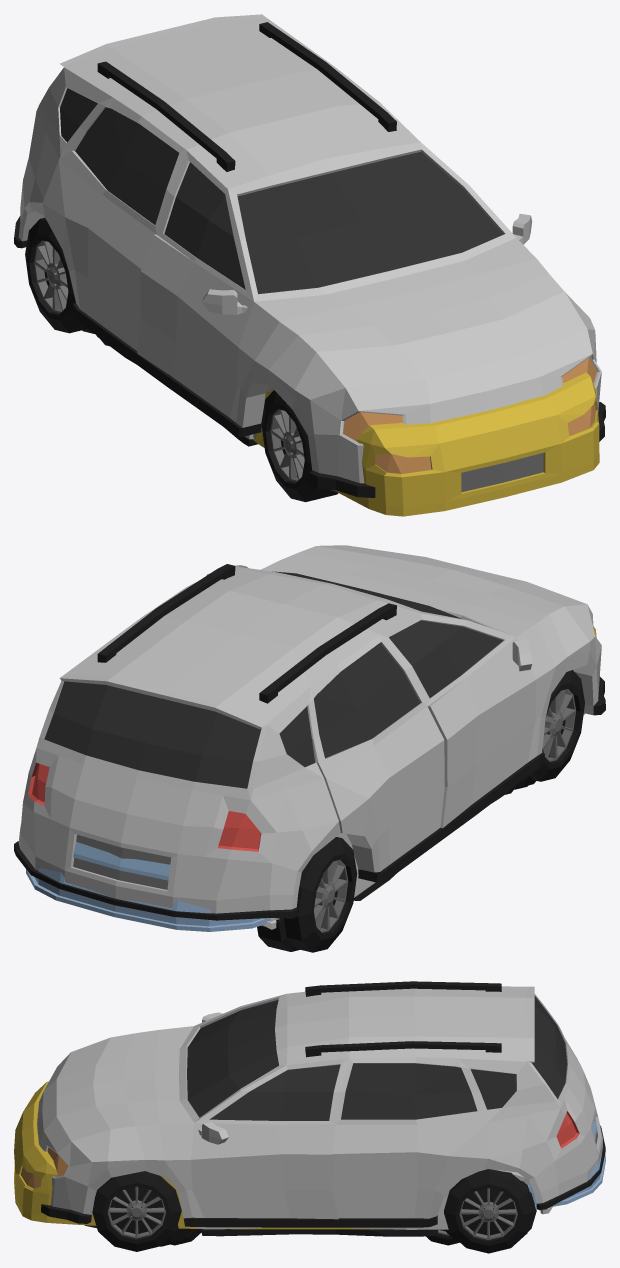
File: cars.glb
3 renders of one model, top to bottom at view 1: azimuth 30°, elevation 25°; view 2: azimuth 150°, elevation 25°; view 3: azimuth 270°, elevation 25°, orthographic. The views are drawn at different scales.
Parts seen in each view (by area): view 1: SUV_Cube, Taxi_Cube.009, SUV_FrontRightWheel_Cylinder.005, SUV_BackWheels_Cylinder.009; view 2: SUV_Cube, SUV_BackWheels_Cylinder.009, NormalCar1_Cube.012, SUV_FrontRightWheel_Cylinder.005, SportsCar2_BackWheels_Cylinder.002; view 3: SUV_Cube, SUV_BackWheels_Cylinder.009, SUV_FrontLeftWheel_Cylinder.010, Taxi_Cube.009, Cop_Cube.001, SportsCar2_Cube.006, NormalCar1_Cube.012.
Boxes of the visible parts, <box> form: SUV_Cube: <box>14,14,605,497</box>; Taxi_Cube.009: <box>252,372,599,516</box>; SUV_FrontRightWheel_Cylinder.005: <box>261,390,338,502</box>; SUV_BackWheels_Cylinder.009: <box>25,217,86,333</box>; SUV_Cube: <box>14,545,605,920</box>; SUV_BackWheels_Cylinder.009: <box>283,837,357,952</box>; NormalCar1_Cube.012: <box>26,841,279,931</box>; SUV_FrontRightWheel_Cylinder.005: <box>530,670,584,781</box>; SportsCar2_BackWheels_Cylinder.002: <box>257,918,299,951</box>; SUV_Cube: <box>37,981,605,1227</box>; SUV_BackWheels_Cylinder.009: <box>444,1169,533,1253</box>; SUV_FrontLeftWheel_Cylinder.010: <box>92,1171,181,1251</box>; Taxi_Cube.009: <box>14,1081,380,1229</box>; Cop_Cube.001: <box>85,1225,437,1236</box>; SportsCar2_Cube.006: <box>165,1168,552,1229</box>; NormalCar1_Cube.012: <box>523,1114,605,1209</box>.
Bounding box in the file's own units: 2.11 × 1.54 × 4.32.
